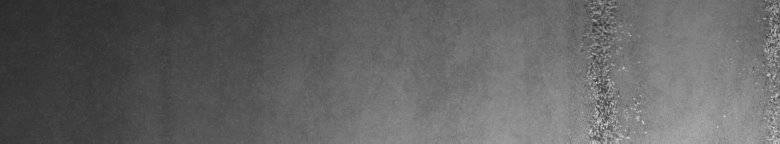hc: (580, 4, 644, 136)
